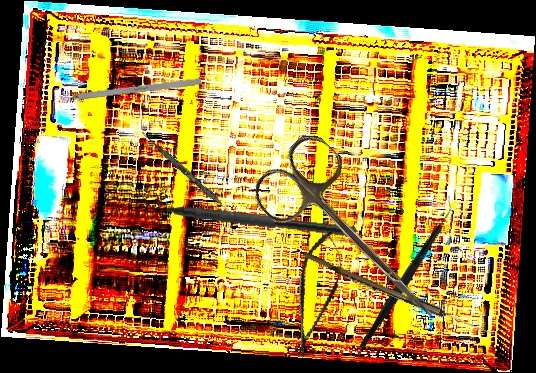Chopper: (319, 195, 493, 350), (133, 188, 358, 238)
Hook Surgical: (49, 77, 202, 104)
Iris Scissors: (245, 126, 468, 347)
Micro Scissor: (280, 226, 352, 362)
Spatula Surgical: (138, 130, 243, 223)
Surgical Spoon: (300, 251, 497, 339)
